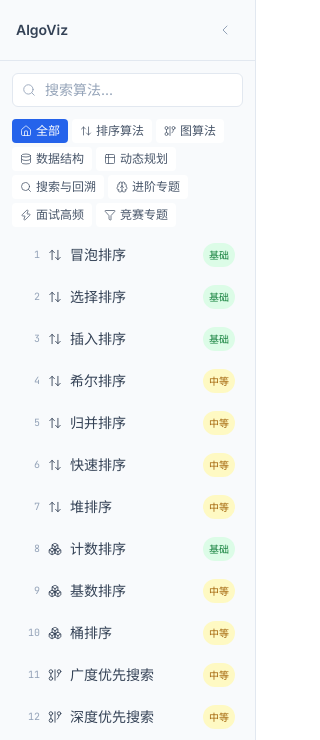
Test: Sidebar — 展开态 › 点击分类按钮更新 store 并过滤列表
The width and height of the screenshot is (320, 740).
Click the button "图算法" at (190, 131), box x1=156 y1=119 x2=224 y2=143
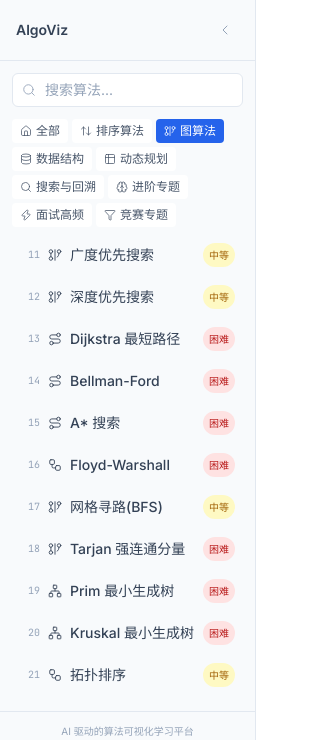
Expected: the text "广度优先搜索" is shown, x1=70 y1=246 x2=154 y2=263
Expected: the button "冒泡排序" is gone
